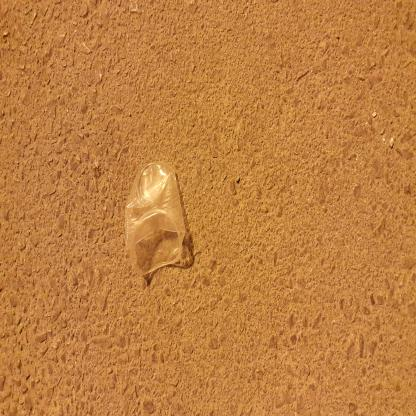trash: (74, 213, 154, 363)
